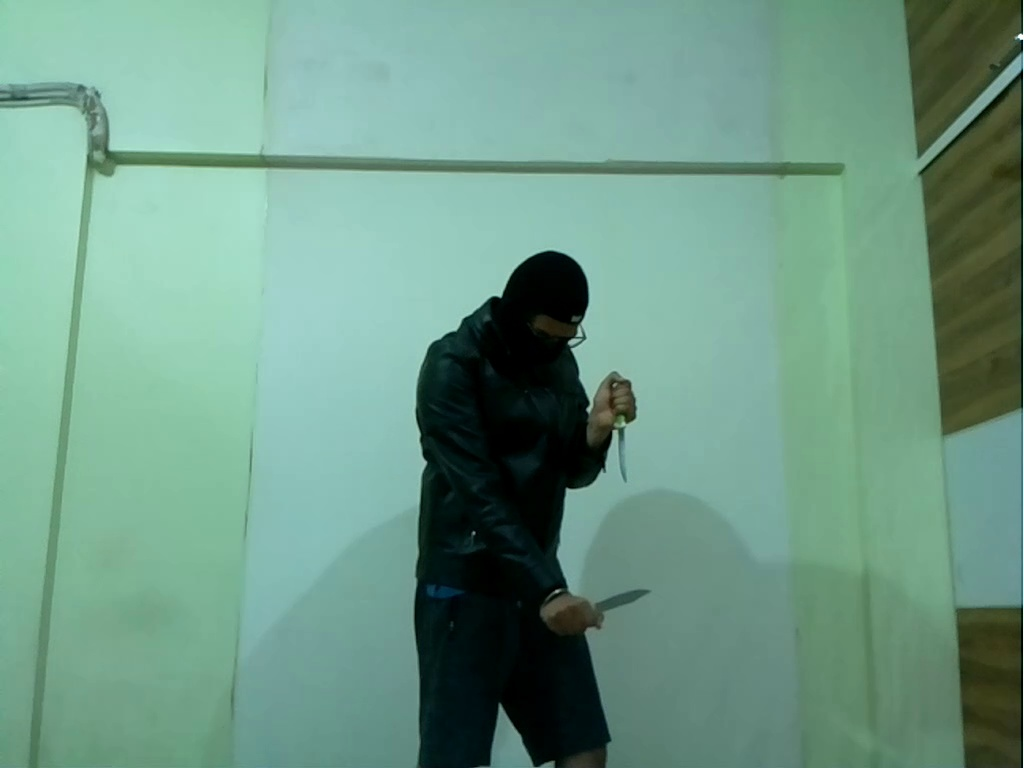knife: (580, 582, 656, 620), (608, 402, 641, 486)
